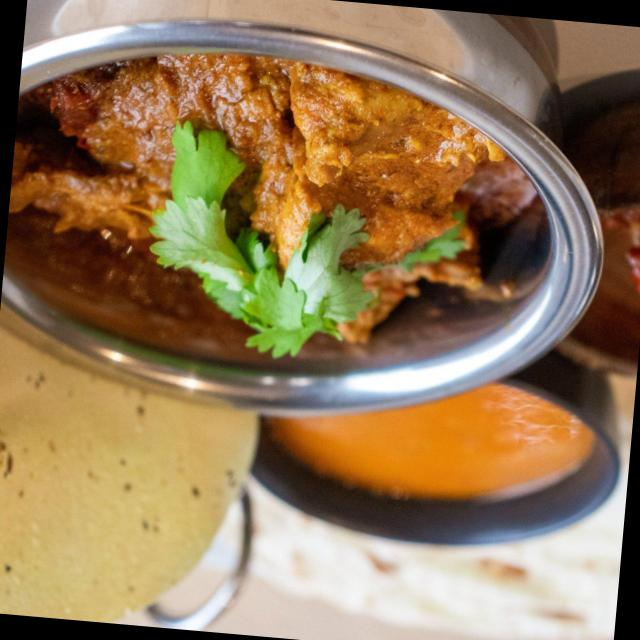chicken: (8, 34, 529, 358)
